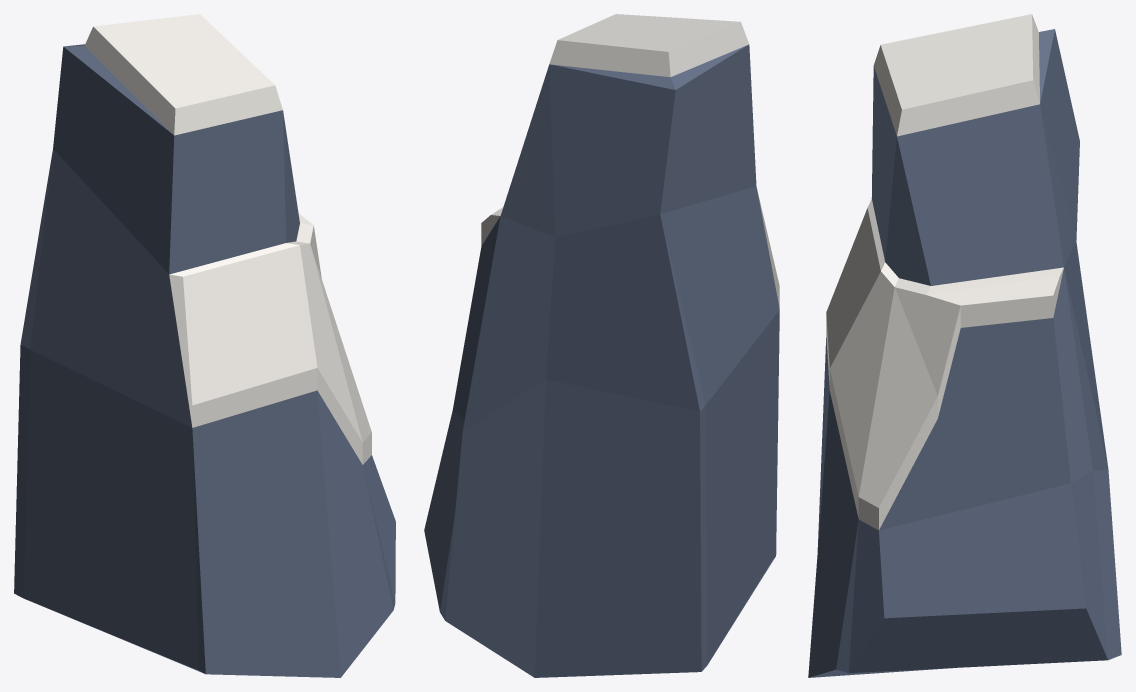
The model's file is Rock_Snow_1.glb.
The picture shows the model from 3 angles, left to right: view 1: azimuth 30°, elevation 25°; view 2: azimuth 150°, elevation 25°; view 3: azimuth 270°, elevation 25°; orthographic projection. The views are drawn at different scales.
Parts seen in each view (by area): view 1: Rock_Snow_1; view 2: Rock_Snow_1; view 3: Rock_Snow_1.
Boxes of the visible parts, x1=… form: Rock_Snow_1: x1=14, y1=14, x2=395, y2=677; Rock_Snow_1: x1=424, y1=14, x2=779, y2=677; Rock_Snow_1: x1=808, y1=14, x2=1121, y2=677.
Size of the model in its own units: 0.4853 by 0.9839 by 0.4667.
